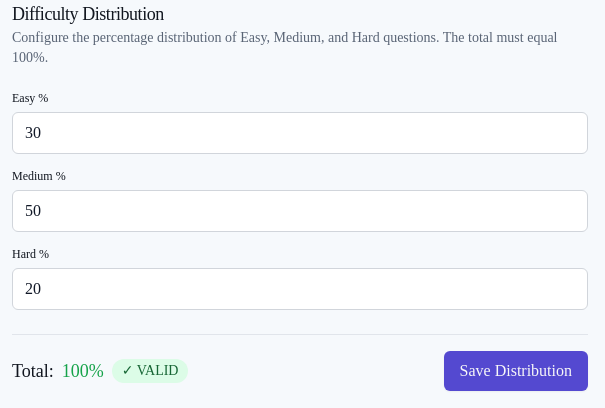
Test: DifficultyDistributionTab › validates negative values on input
This screenshot has width=605, height=408.
Replace the text in the number field labelled "Easy %" with "-5" at (300, 133), box [12,112,588,154]
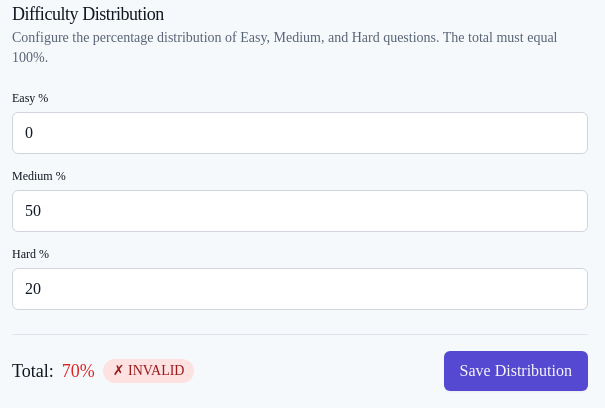
Result: the number field labelled "Easy %" holds "0" at [12,112,588,154]
